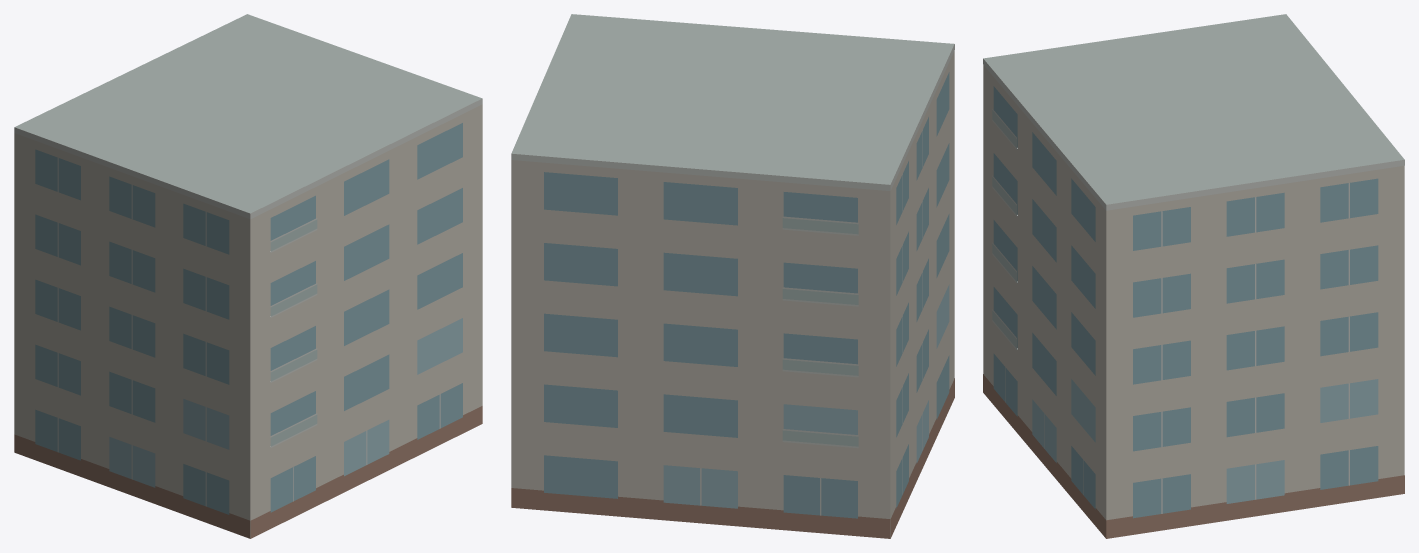
File: survey-upis-32907892.glb
3 renders of one model, left to right at view 1: azimuth 30°, elevation 25°; view 2: azimuth 150°, elevation 25°; view 3: azimuth 270°, elevation 25°, orthographic. The views are drawn at different scales.
Visible parts, largest first — view 1: survey-upis-32907892.tmp; view 2: survey-upis-32907892.tmp; view 3: survey-upis-32907892.tmp.
Part boxes in pixels (x1,y1,x2,y2): survey-upis-32907892.tmp: (14,14,482,538); survey-upis-32907892.tmp: (511,14,954,538); survey-upis-32907892.tmp: (983,14,1404,538).
Size of the model in its own units: 16.79 by 13.7 by 15.68.
